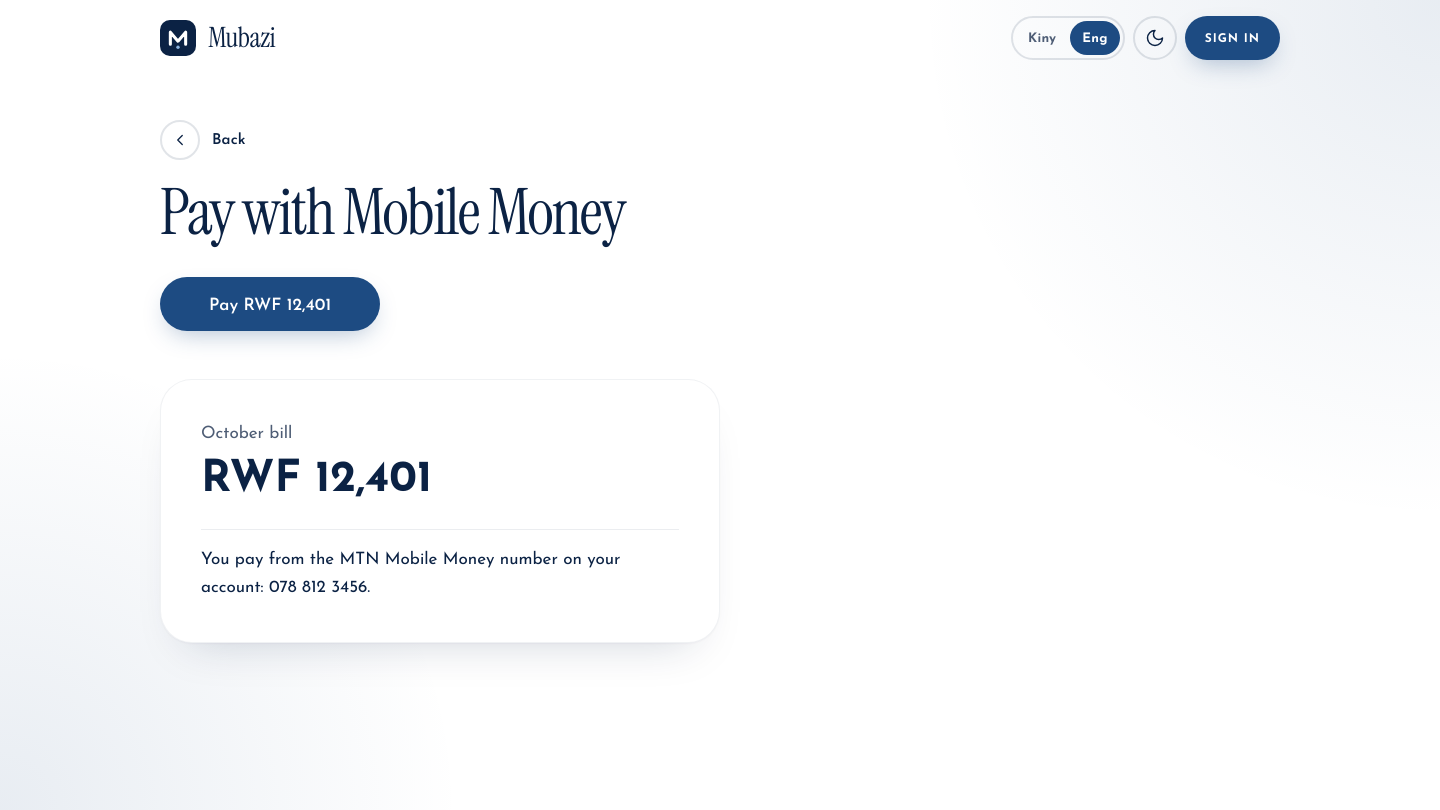
it: Payment › when the connection drops, should not claim the household was not charged
The width and height of the screenshot is (1440, 810).
Click the button "Pay RWF 12,401": (270, 304) [160,277,380,331]
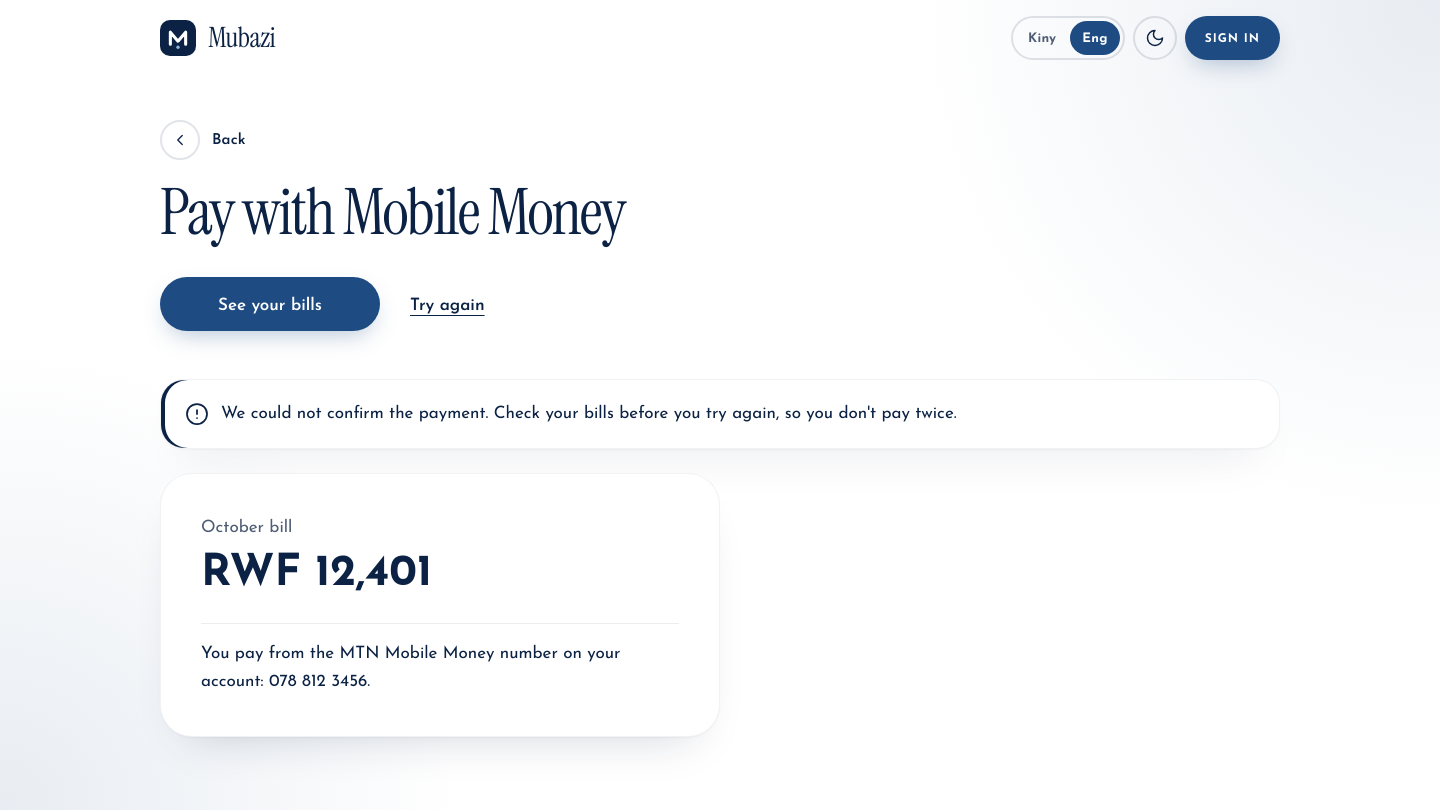
Expected: the message shows "Check your bills before you try again", [221,405,957,422]
Expected: the button "See your bills" is shown, [160,277,380,331]
